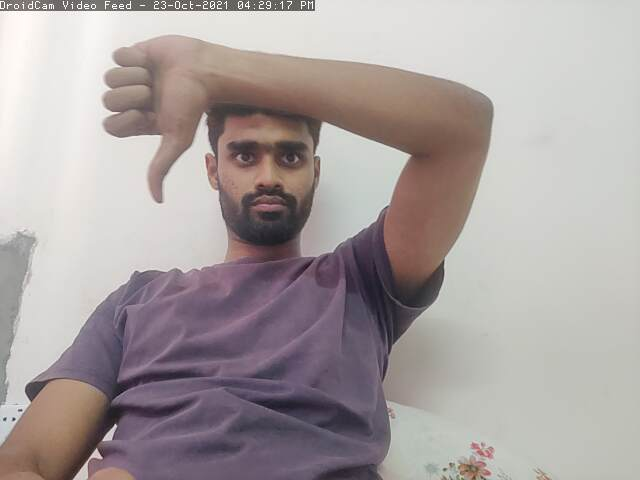ThumbsDown: (99, 28, 204, 204)
